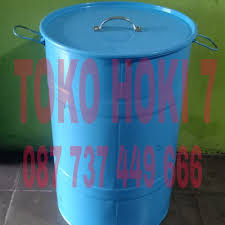metal: (10, 1, 225, 225)
